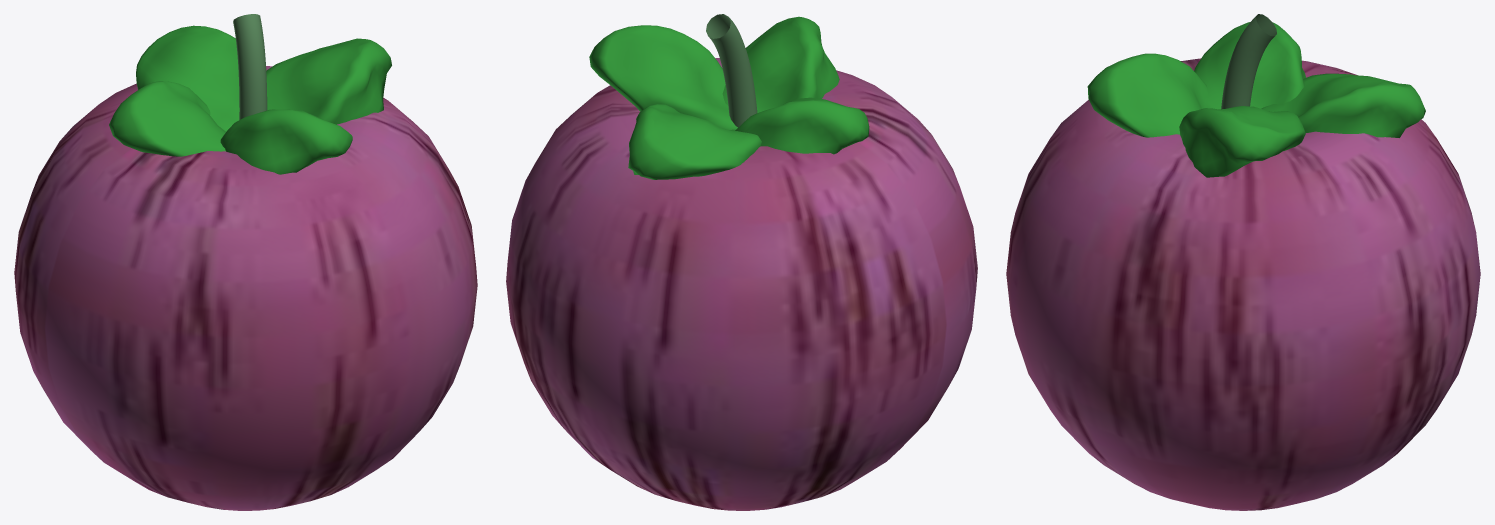
Rendered from manggis.glb.
3 renders of one model, left to right at view 1: azimuth 30°, elevation 25°; view 2: azimuth 150°, elevation 25°; view 3: azimuth 270°, elevation 25°, orthographic. The views are drawn at different scales.
Parts seen in each view (by area): view 1: Sphere, NurbsPath; view 2: Sphere, NurbsPath; view 3: Sphere, NurbsPath.
Boxes of the visible parts, left/top/right/bottom form: Sphere: left=14, top=25, right=477, bottom=510; NurbsPath: left=233, top=14, right=267, bottom=119; Sphere: left=506, top=16, right=977, bottom=510; NurbsPath: left=706, top=14, right=757, bottom=127; Sphere: left=1006, top=22, right=1480, bottom=510; NurbsPath: left=1221, top=14, right=1276, bottom=109.
Bounding box in the file's own units: 0.3551 × 0.395 × 0.3551.
6 materials, 1 textured.
